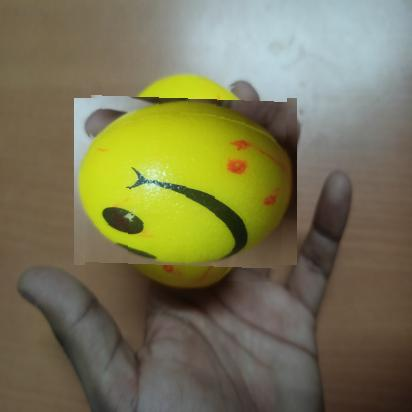Yellowball: (87, 82, 285, 281)
